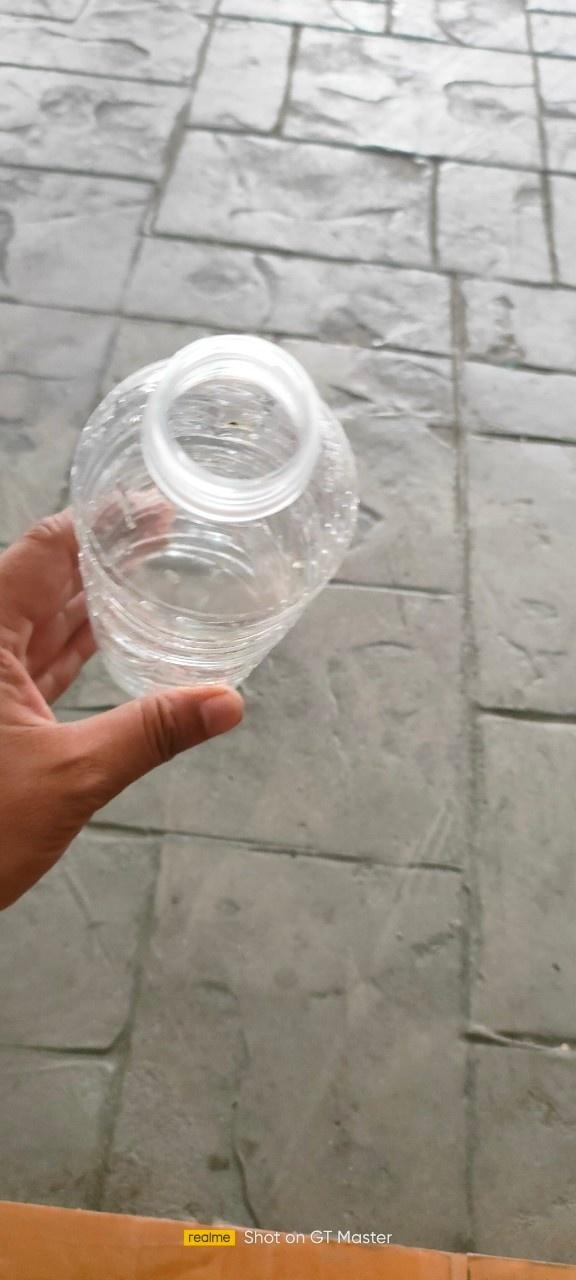plastic_bottle: (72, 334, 360, 703)
